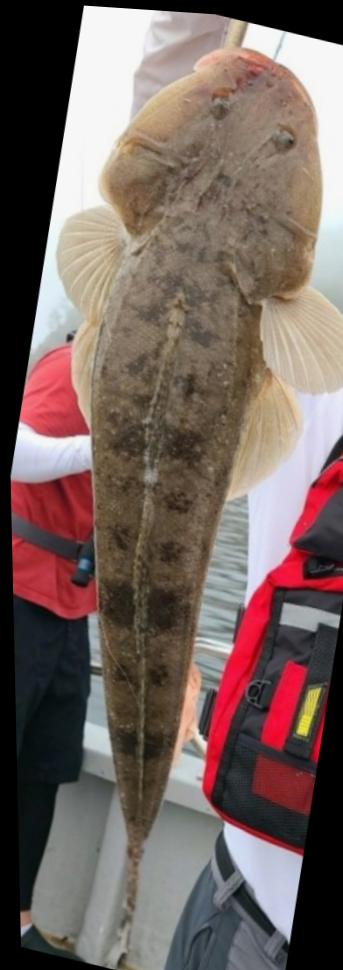fish: (53, 42, 343, 968)
